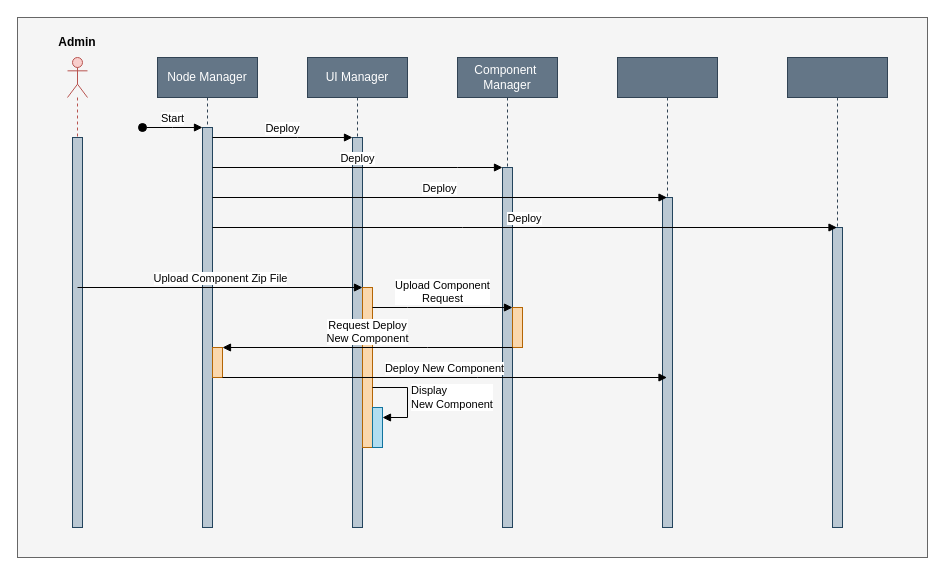
The diagram is 945 pixels wide and 575 high, and some of its shapes have lost their labels. The shapes that lost their labels are listed below. From the top down, each one's box as (x1, y1, x2, y2) in pixels, then its label:
(616, 56, 718, 528): Component
(786, 56, 888, 528): Scheduler
